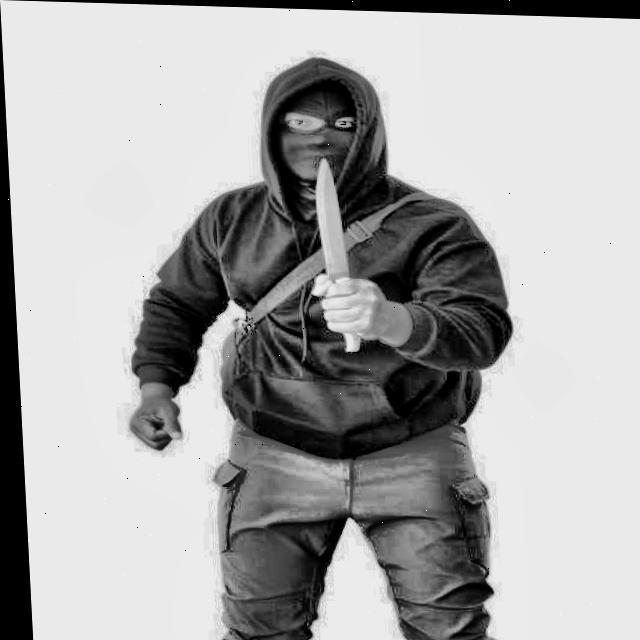pisau: (310, 153, 362, 372)
robbery: (104, 41, 534, 570)
